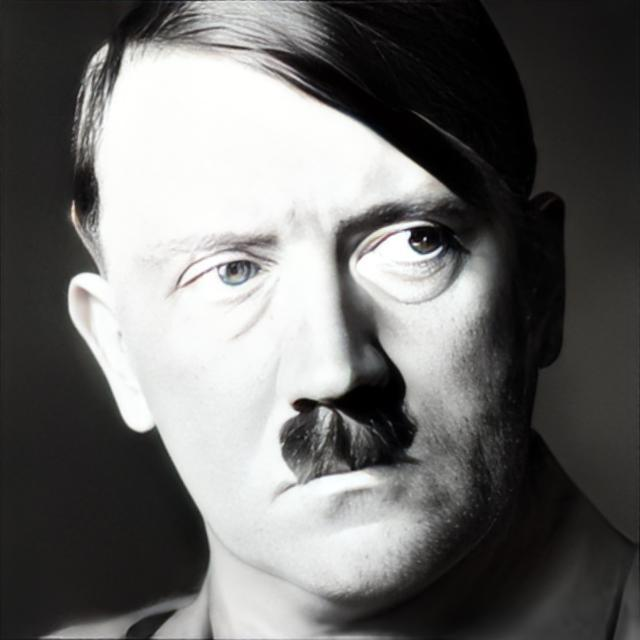anger: (124, 76, 526, 606)
